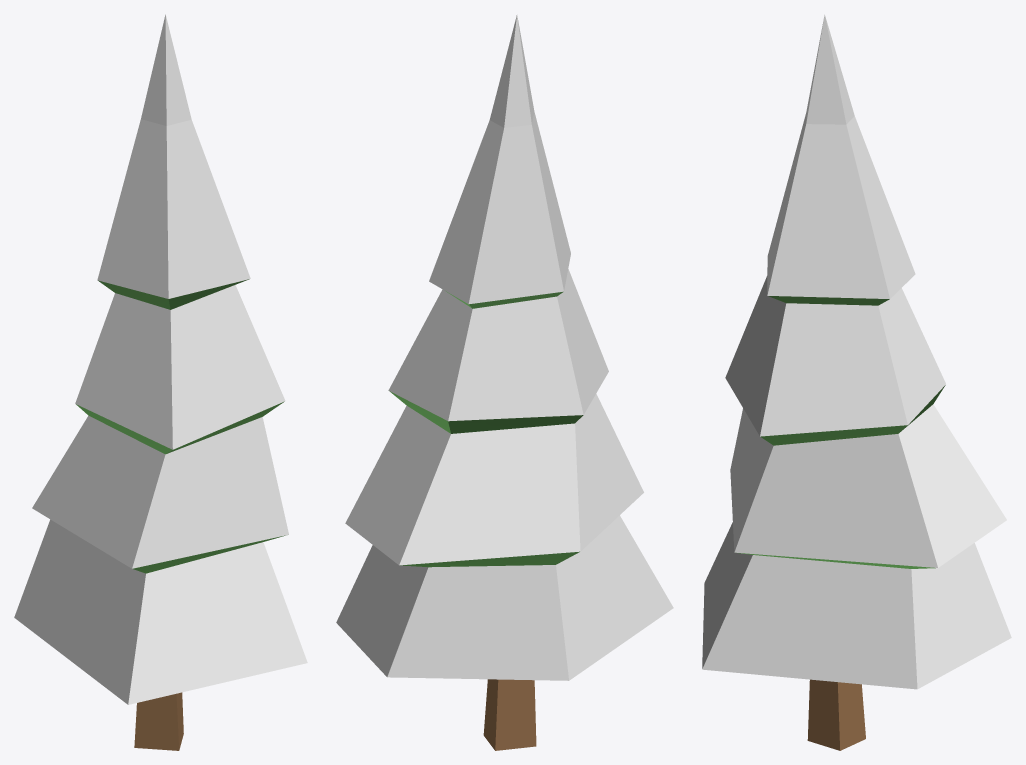
Rendered from Fir_Tree_m_Snow_10.fbx.
3 renders of one model, left to right at view 1: azimuth 30°, elevation 25°; view 2: azimuth 150°, elevation 25°; view 3: azimuth 270°, elevation 25°, orthographic.
Visible parts, largest first — view 1: Fir_Tree_m_Snow_10; view 2: Fir_Tree_m_Snow_10; view 3: Fir_Tree_m_Snow_10.
Part boxes in pixels (x1,y1,x2,y2): Fir_Tree_m_Snow_10: [14, 14, 307, 750]; Fir_Tree_m_Snow_10: [336, 14, 673, 750]; Fir_Tree_m_Snow_10: [702, 14, 1011, 750].
Size of the model in its own units: 148 by 434 by 168.
